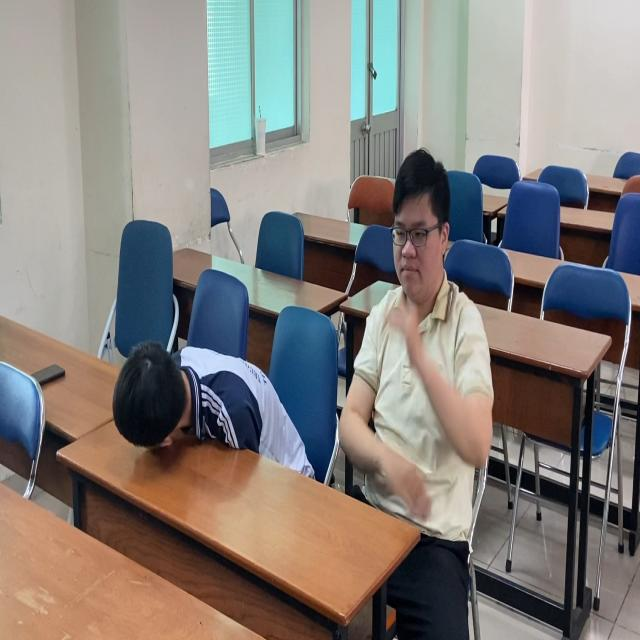sleep: (105, 328, 317, 493)
